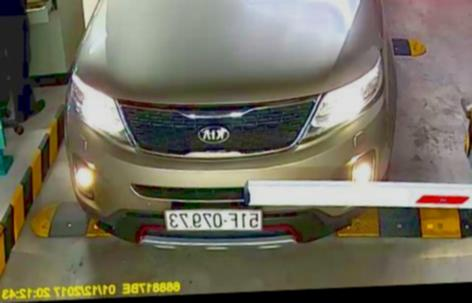License_Plate: (164, 205, 264, 235)
